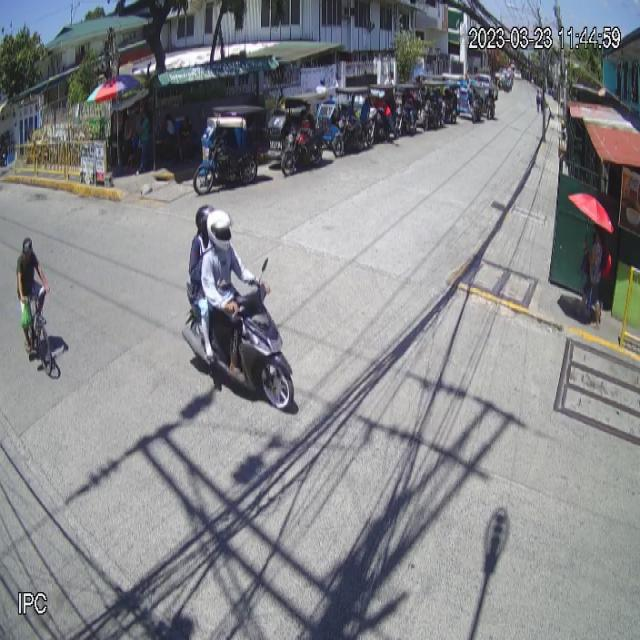Motorcycle: (182, 256, 294, 411)
